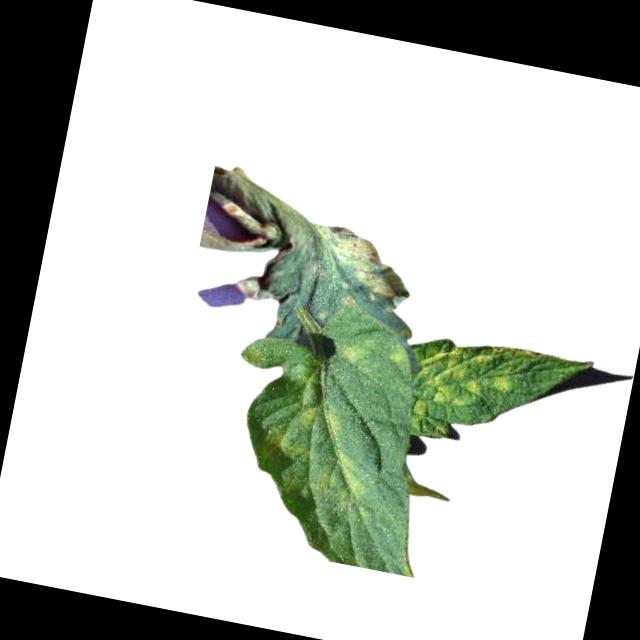Leaf_Mold: (263, 395, 380, 512), (409, 330, 519, 434), (303, 222, 414, 307), (332, 337, 373, 374)
